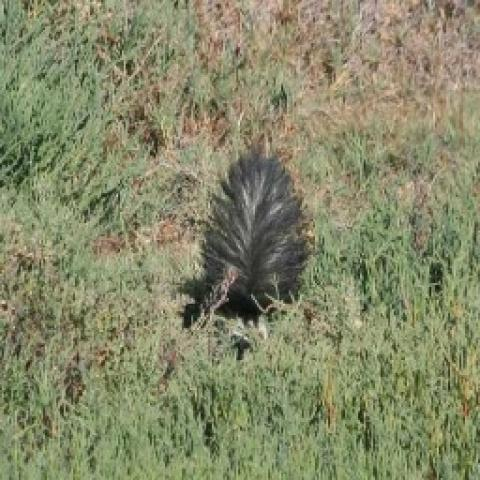small_animal: (166, 156, 309, 378)
